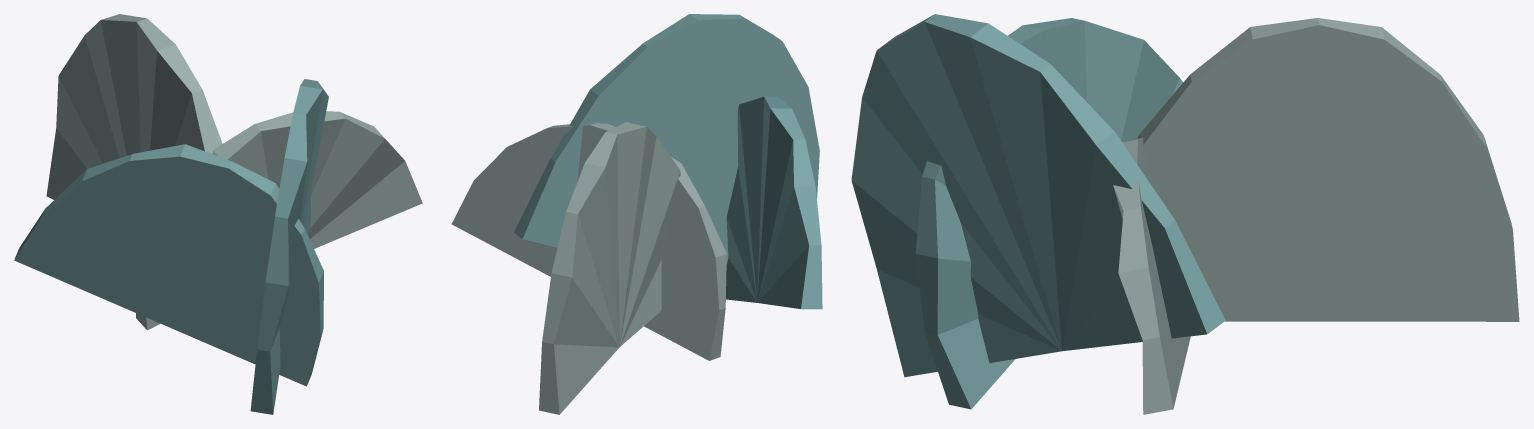
Rendered from plant-fanMold.glb.
3 views of the same model, side by side, from view 1: azimuth 30°, elevation 25°; view 2: azimuth 150°, elevation 25°; view 3: azimuth 270°, elevation 25° (orthographic). The views are drawn at different scales.
Parts seen in each view (by area): view 1: plant-fanMold; view 2: plant-fanMold; view 3: plant-fanMold.
Boxes of the visible parts, bbox=[...] form: plant-fanMold: bbox=[14, 14, 422, 414]; plant-fanMold: bbox=[451, 14, 822, 414]; plant-fanMold: bbox=[851, 14, 1519, 414].
Bounding box in the file's own units: 0.8116 × 0.5865 × 0.906.
